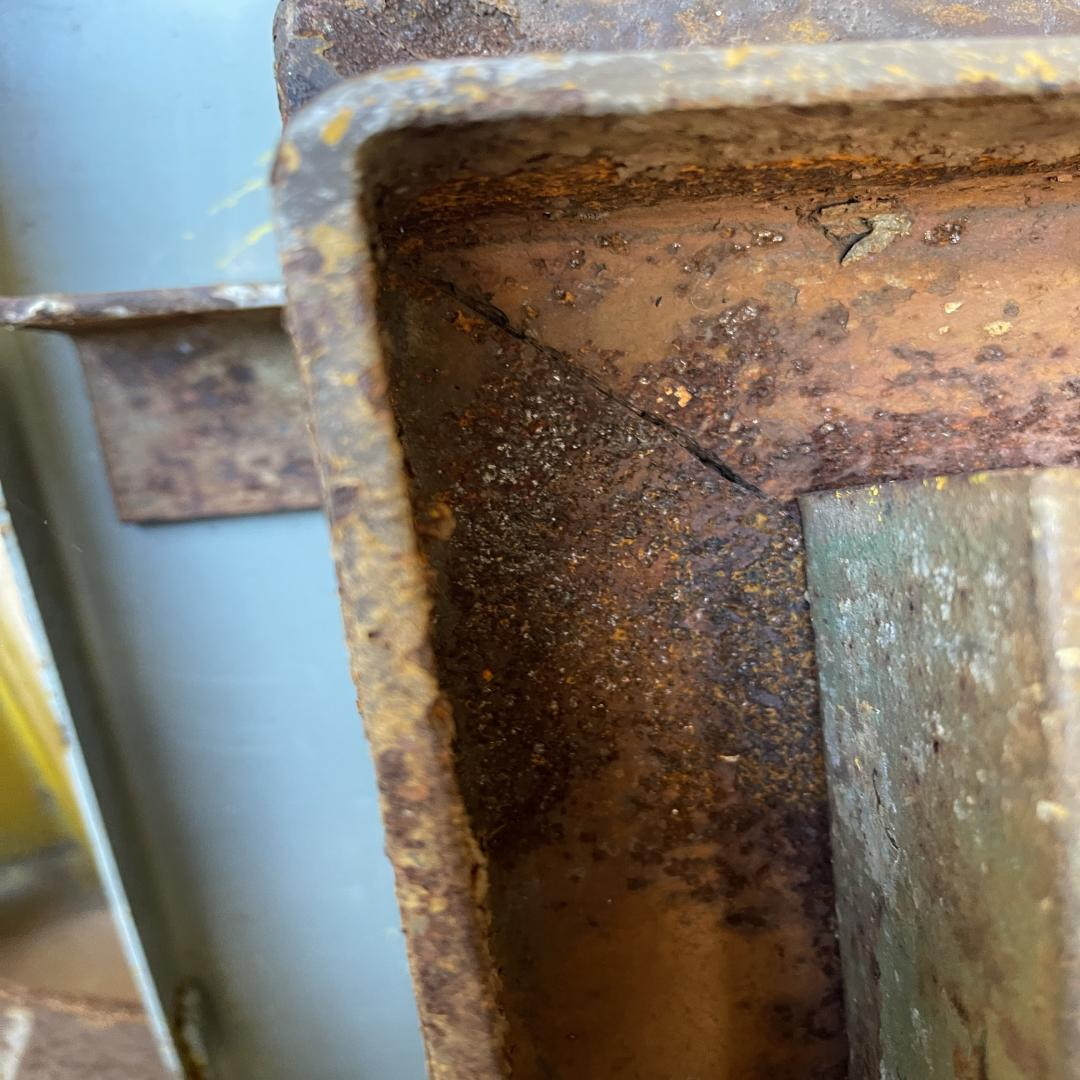Metal: (0, 327, 419, 1080)
Metal corroido: (0, 0, 1080, 1080)
